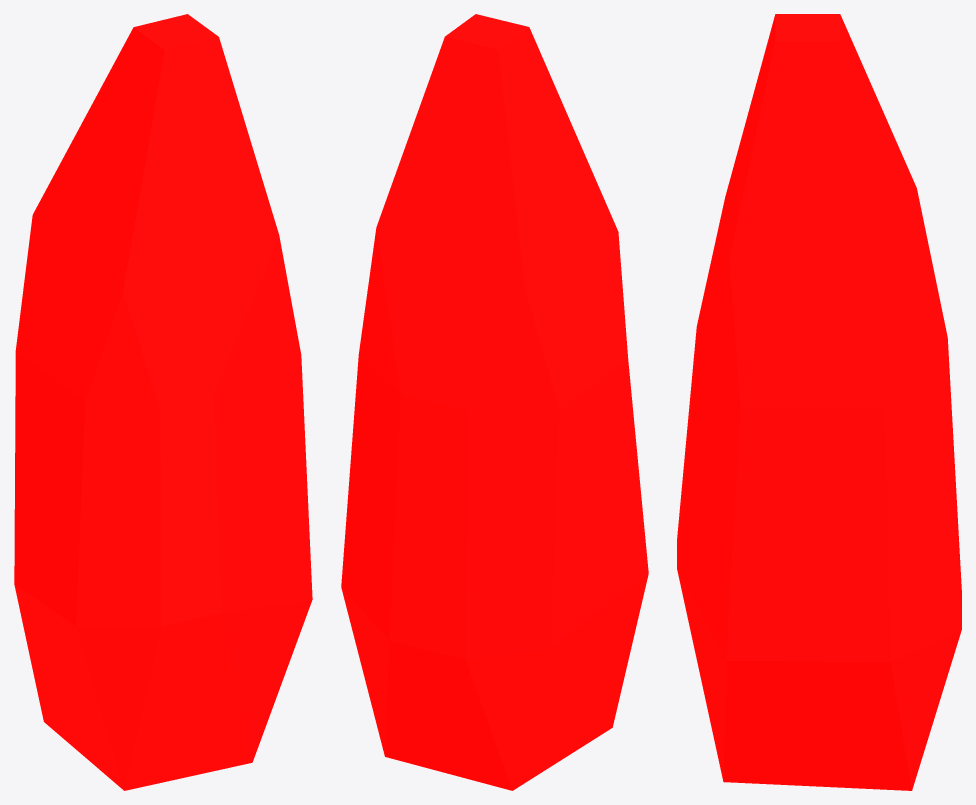
Rendered from SM_SmallCrystal.fbx.
3 views of the same model, side by side, from view 1: azimuth 30°, elevation 25°; view 2: azimuth 150°, elevation 25°; view 3: azimuth 270°, elevation 25° (orthographic). The views are drawn at different scales.
Visible parts, largest first — view 1: SmallCrystal; view 2: SmallCrystal; view 3: SmallCrystal.
Part boxes in pixels (x1,y1,x2,y2): SmallCrystal: (14, 14, 312, 790); SmallCrystal: (341, 14, 648, 790); SmallCrystal: (677, 14, 961, 790).
Bounding box in the file's own units: 1.29 × 3.66 × 1.28.
